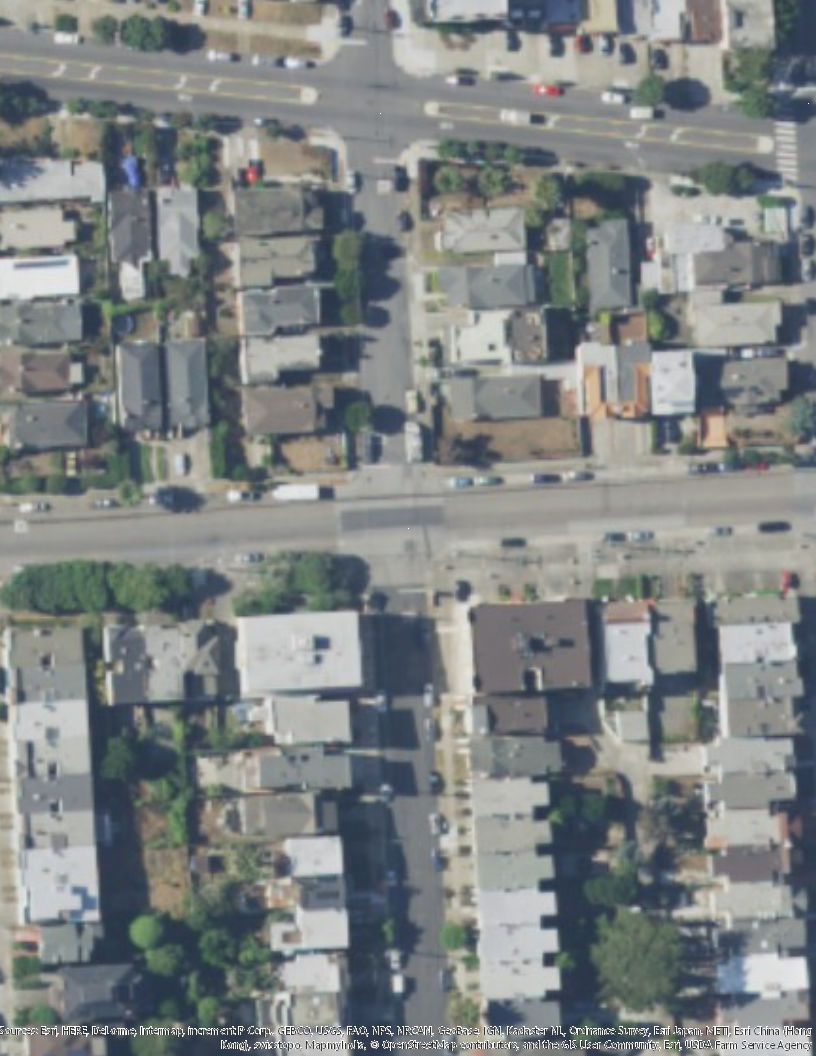zebracross: (774, 114, 800, 180)
